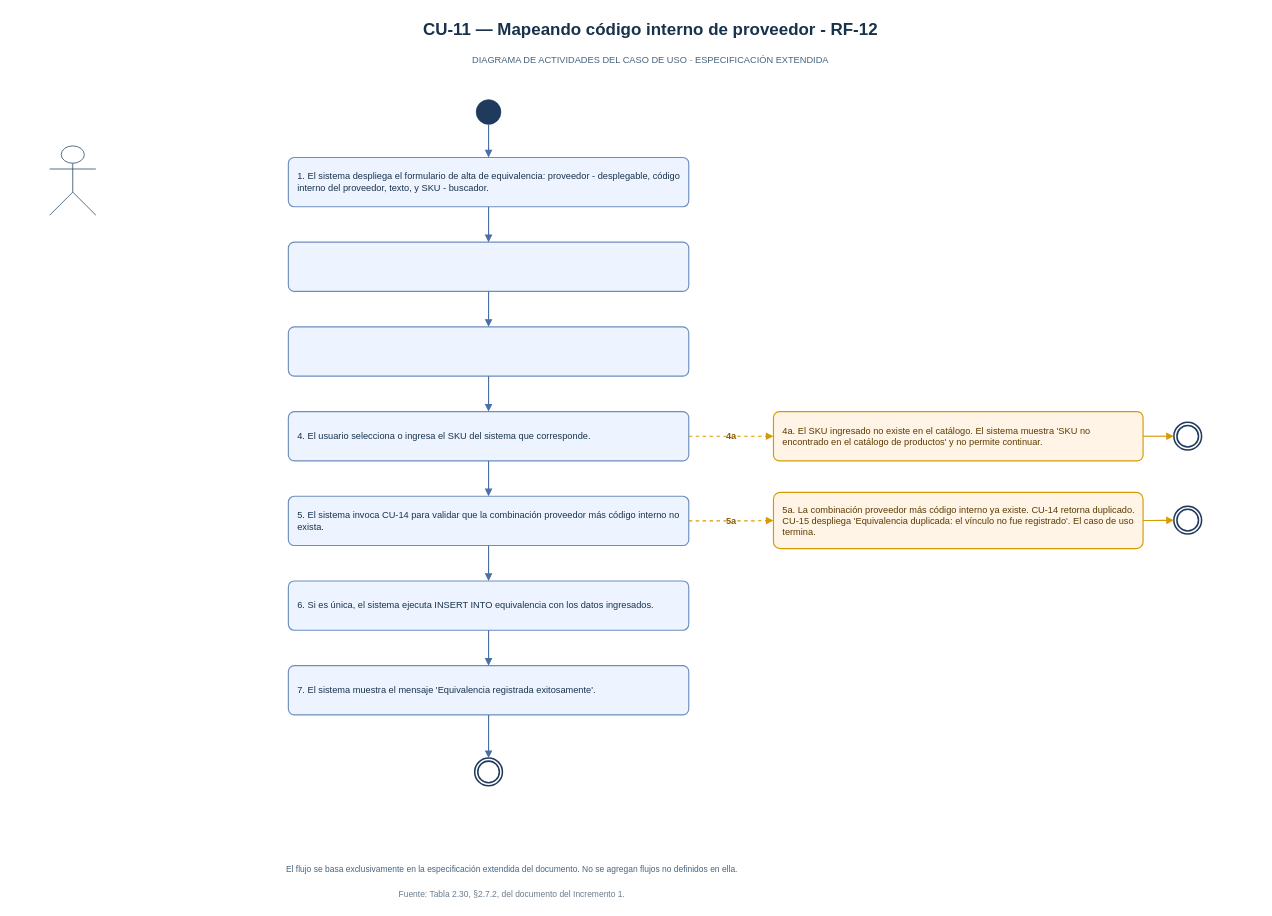
The diagram is 1272 pixels wide and 916 high, and some of its shapes have lost their labels. Each missing label, with the box of its shape:
2. El usuario selecciona el proveedor desde el desplegable.: (287, 241, 689, 292)
3. El usuario ingresa el código interno que el proveedor asigna al producto.: (287, 326, 689, 376)
Administrador / Bodeguero: (49, 145, 96, 215)
